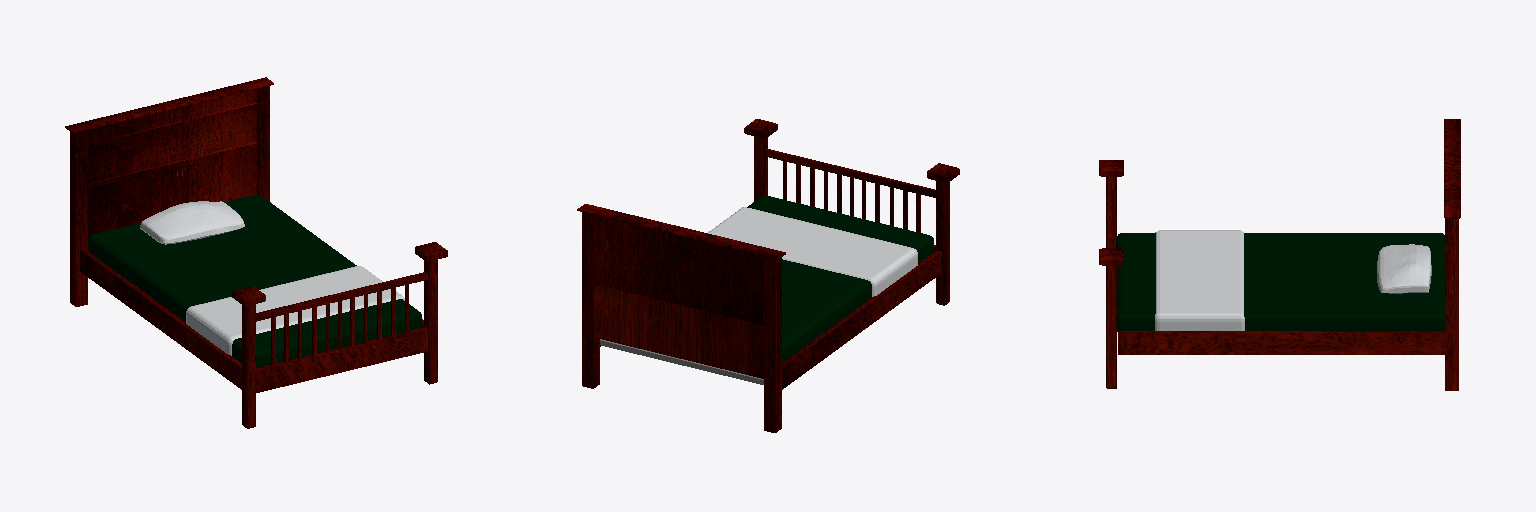
3 renders of one model, left to right at view 1: azimuth 30°, elevation 25°; view 2: azimuth 150°, elevation 25°; view 3: azimuth 270°, elevation 25°, orthographic.
Parts seen in each view (by area): view 1: pCube1 group1, pCube25, pCube26, group1 pCube8, group1 pCube4, pCube27, group1 pCube2, group1 pCube10, group1 pCube9, group1 pCube11, group1 pCube3; view 2: pCube1 group1, pCube25, pCube26, group1 pCube4, group1 pCube2, group1 pCube3, group1 pCube10, group1 pCube11, group1 pCube9, pCube24; view 3: pCube25, pCube26, group1 pCube5, pCube27, group1 pCube3, group1 pCube9, pCube1 group1, group1 pCube10.
Boxes of the visible parts, box(x1,y1,x2,y2) form: pCube1 group1: box(65, 77, 273, 238); pCube25: box(88, 194, 421, 367); pCube26: box(186, 266, 404, 355); group1 pCube8: box(256, 327, 427, 392); group1 pCube4: box(80, 249, 241, 389); pCube27: box(140, 201, 244, 244); group1 pCube2: box(70, 130, 87, 306); group1 pCube10: box(232, 286, 265, 428); group1 pCube9: box(415, 242, 447, 384); group1 pCube11: box(256, 272, 427, 321); group1 pCube3: box(257, 86, 269, 201); pCube1 group1: box(577, 204, 785, 378); pCube25: box(747, 195, 933, 362); pCube26: box(708, 207, 917, 296); group1 pCube4: box(782, 250, 941, 389); group1 pCube2: box(764, 257, 781, 432); group1 pCube3: box(582, 212, 599, 388); group1 pCube10: box(927, 163, 959, 305); group1 pCube11: box(765, 149, 935, 197); group1 pCube9: box(744, 119, 777, 201); pCube24: box(600, 339, 763, 384); pCube25: box(1116, 233, 1444, 331); pCube26: box(1155, 230, 1244, 330); group1 pCube5: box(1118, 331, 1444, 354); pCube27: box(1377, 244, 1431, 293); group1 pCube3: box(1445, 219, 1458, 390); group1 pCube9: box(1099, 248, 1123, 388); pCube1 group1: box(1444, 119, 1460, 218); group1 pCube10: box(1099, 160, 1123, 247).
Size of the model in its own units: 23.95 by 19.81 by 36.74.
4 materials, 1 textured.